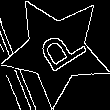P_SW: (26, 22, 87, 80)
